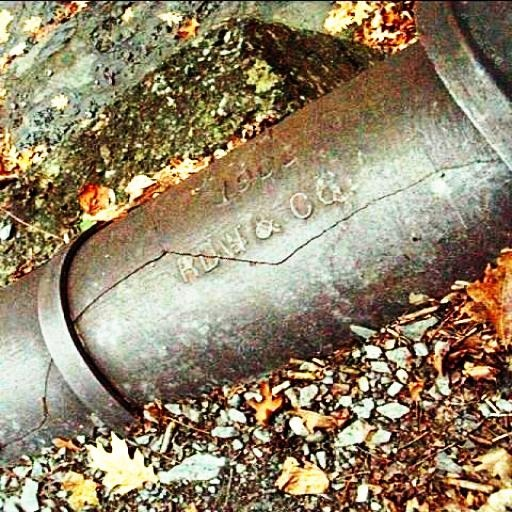crack: (259, 94, 512, 238), (0, 245, 27, 512)
